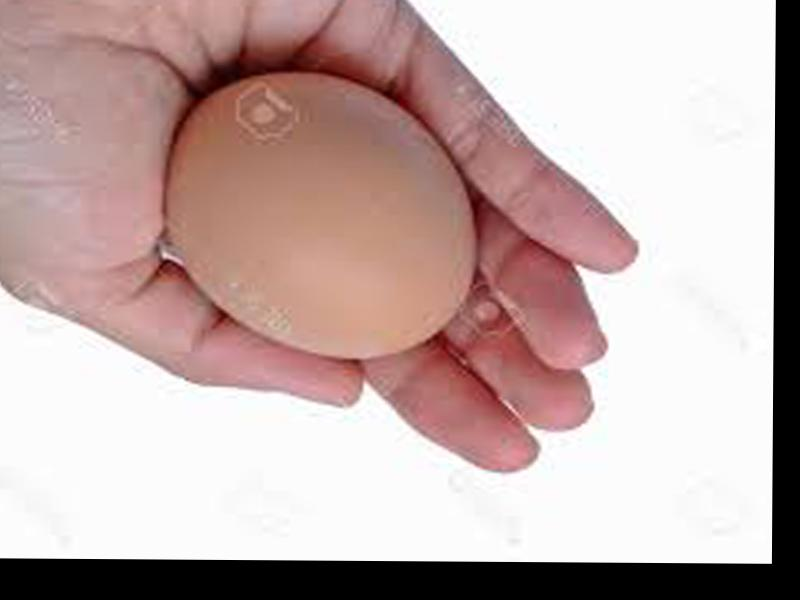Eggs: (162, 74, 478, 359)
